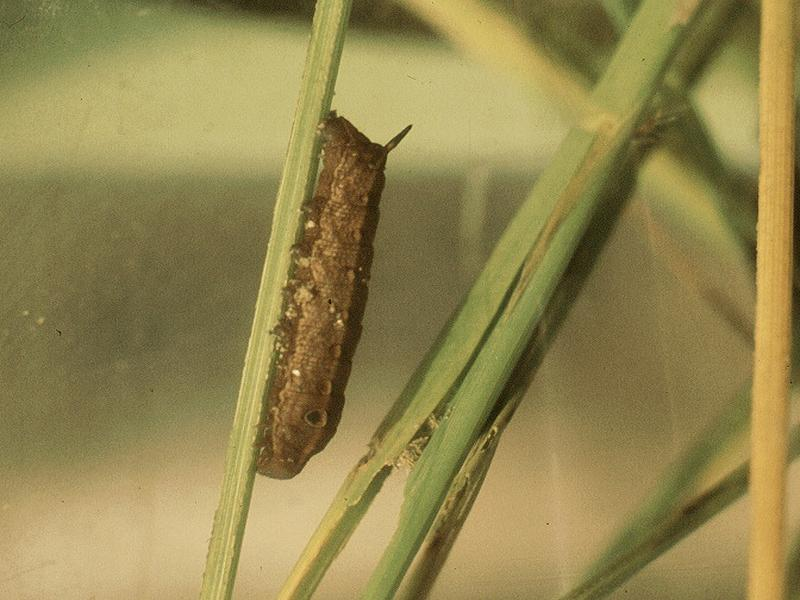Rice_horned_caterpillar: (247, 102, 407, 494)
